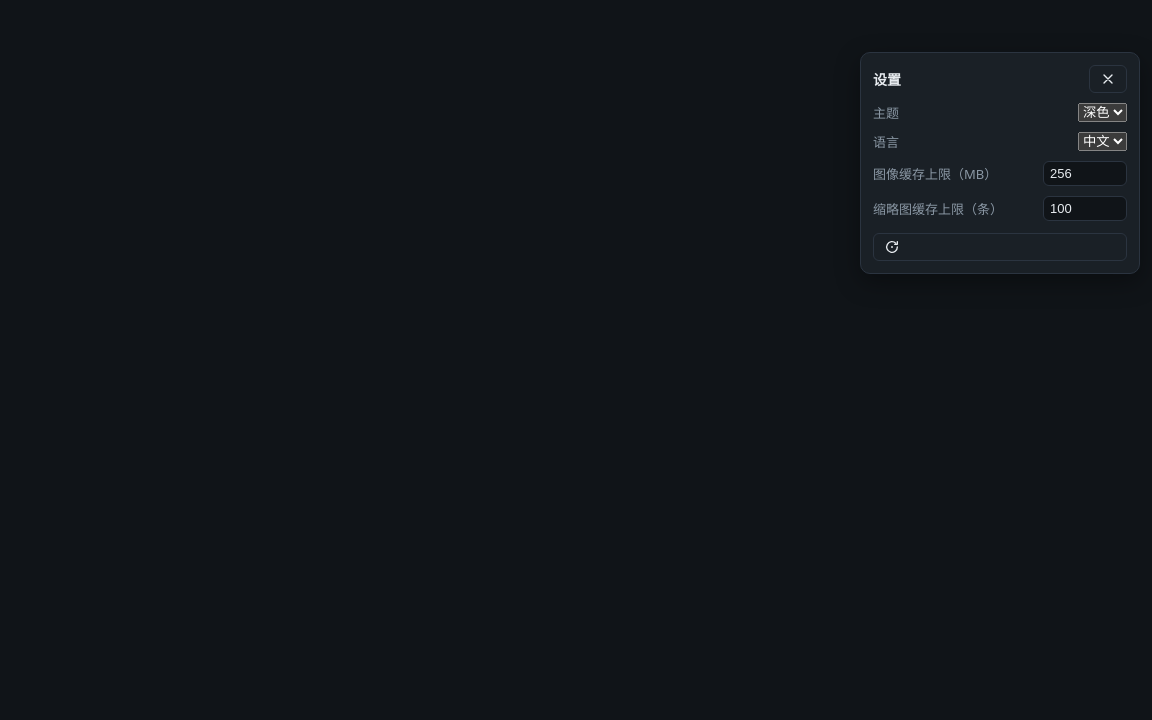
SettingsPanel（组件） › 数值输入非法值失焦时按 sanitize 夹紧后提交
Replace the text in the number field labelled "图像缓存上限（MB）" with "999999": (1085, 174) [1043, 161, 1127, 186]
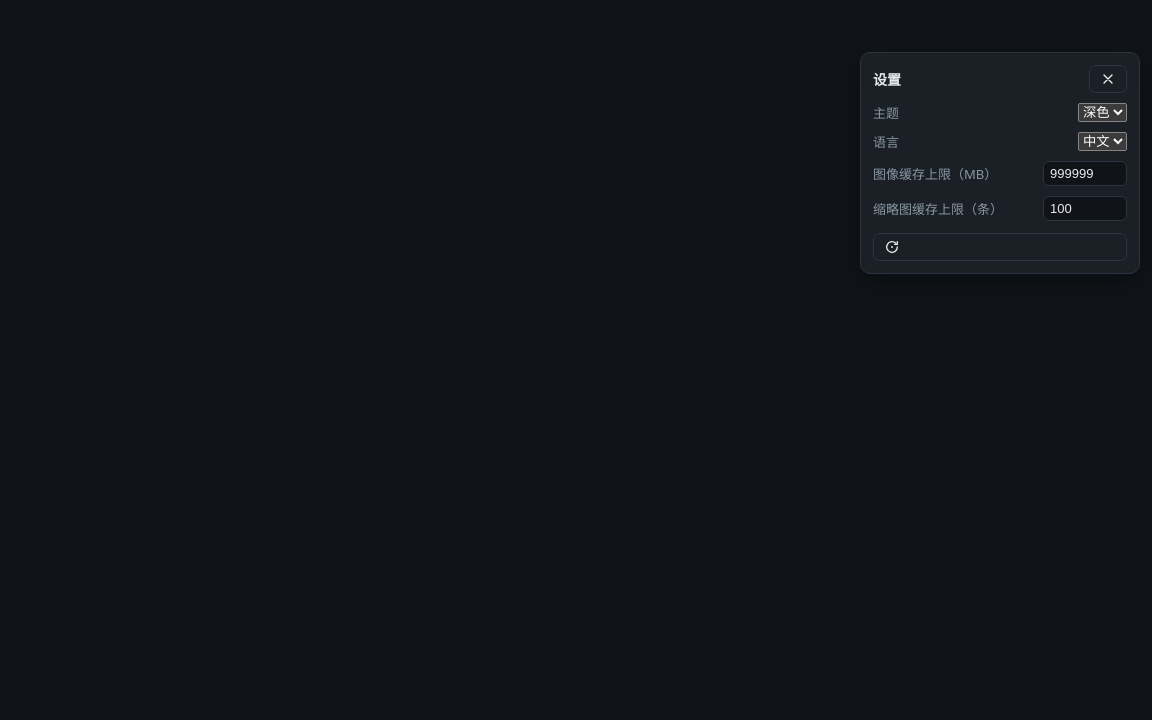
Leave the number field labelled "图像缓存上限（MB）", box [1043, 161, 1127, 186]
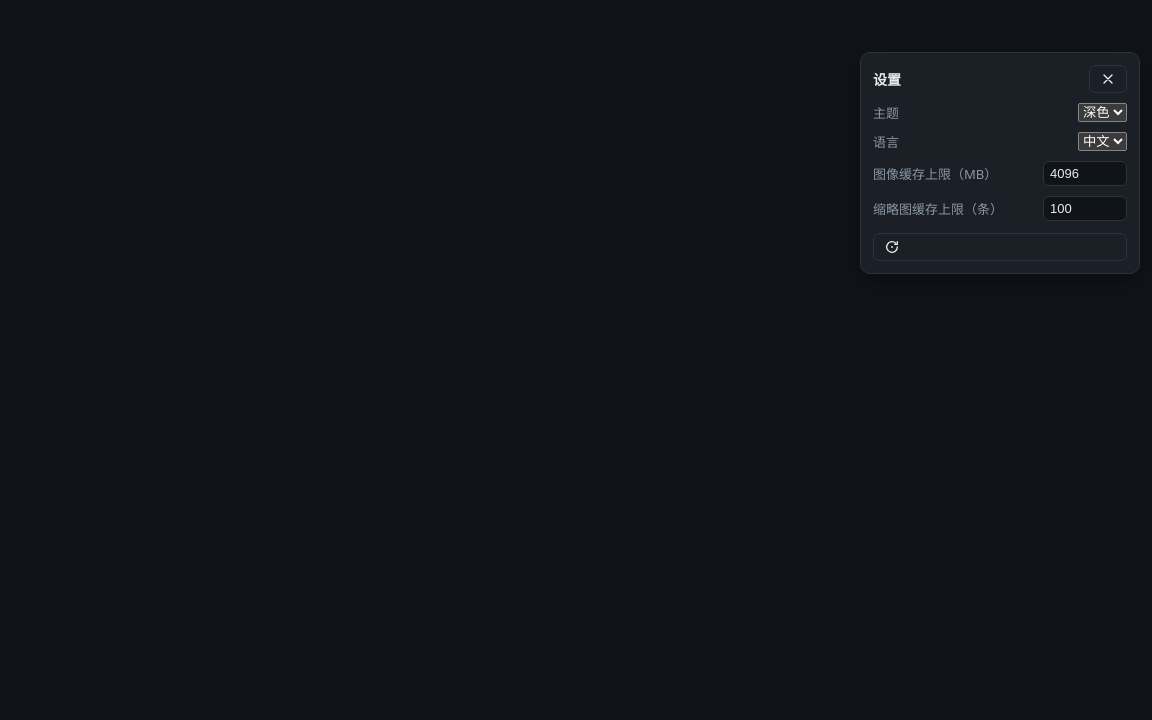
Check: the number field labelled "图像缓存上限（MB）" holds "4096", box [1043, 161, 1127, 186]
